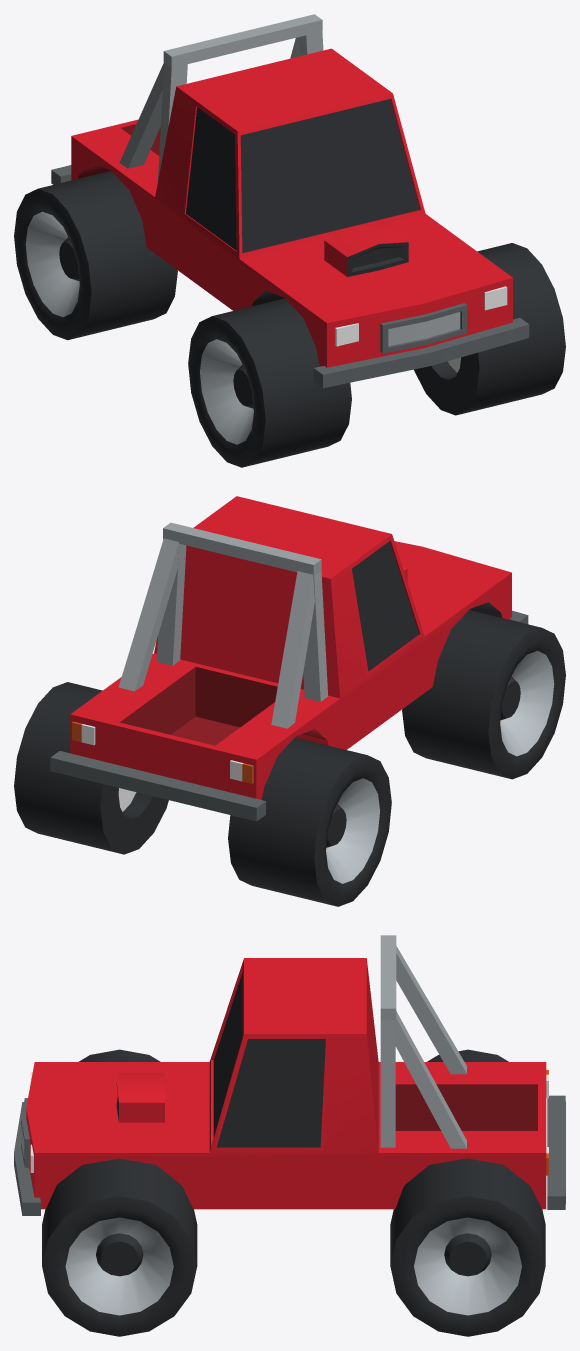
Rendered from Car_10.fbx.
3 views of the same model, one above another, from view 1: azimuth 30°, elevation 25°; view 2: azimuth 150°, elevation 25°; view 3: azimuth 270°, elevation 25° (orthographic).
Visible parts, largest first — view 1: Car10, Car10Wheel4, Car10Wheel2, Car10Wheel1; view 2: Car10, Car10Wheel4, Car10Wheel2, Car10Wheel3; view 3: Car10, Car10Wheel3, Car10Wheel1, Car10Wheel2.
Part boxes in pixels (<box>): Car10: <box>51,14,529,388</box>; Car10Wheel4: <box>14,171,177,340</box>; Car10Wheel2: <box>188,298,351,467</box>; Car10Wheel1: <box>414,243,565,415</box>; Car10: <box>50,496,528,821</box>; Car10Wheel4: <box>228,737,391,906</box>; Car10Wheel2: <box>402,610,565,779</box>; Car10Wheel3: <box>14,682,168,854</box>; Car10: <box>14,935,565,1215</box>; Car10Wheel3: <box>390,1158,545,1336</box>; Car10Wheel1: <box>42,1158,197,1336</box>; Car10Wheel2: <box>79,1049,160,1061</box>.
Size of the model in its own units: 342 by 312 by 535.
Materials: 1 (1 with a texture image).
